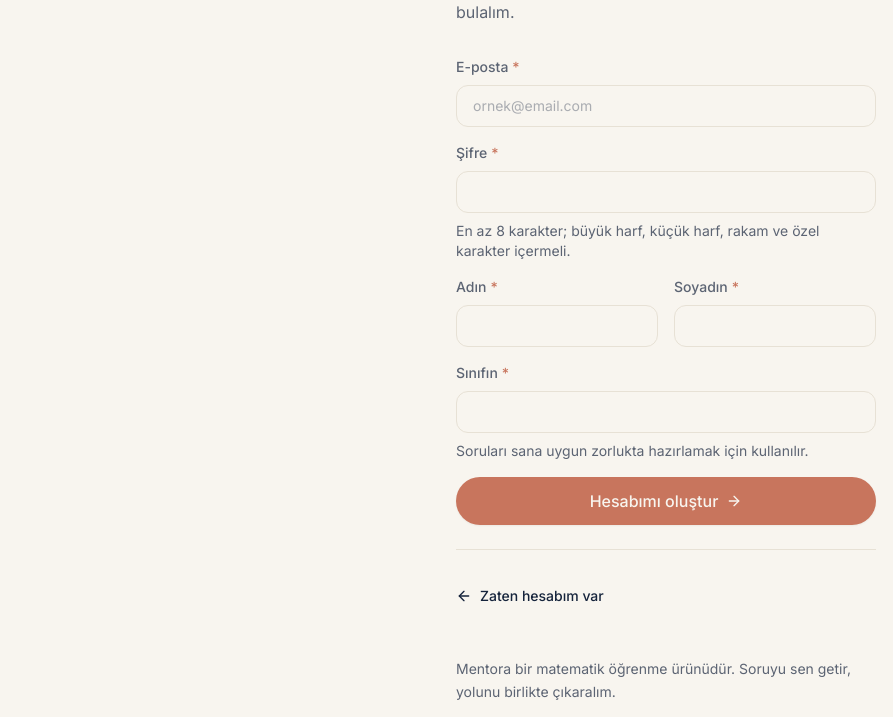
Test: AuthScreen › opens directly on sign-up when asked to, without a second form
The image size is (893, 717).
(page scrolled)
Expected: the number field labelled "Sınıfın*" is shown, top-left (456, 391), bottom-right (876, 433)
# The sign-in form is still reachable through the same component.
Click the button "Zaten hesabım var" at (530, 596), box top-left (456, 574), bottom-right (604, 618)
(page scrolled)
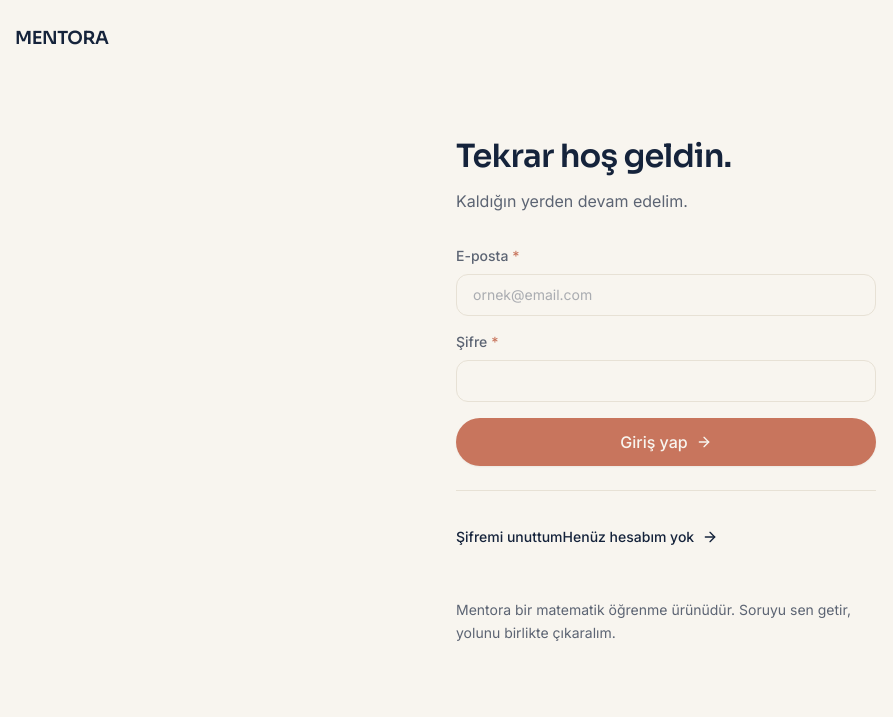
Expected: the heading "Tekrar hoş geldin." is shown, top-left (456, 136), bottom-right (731, 176)
